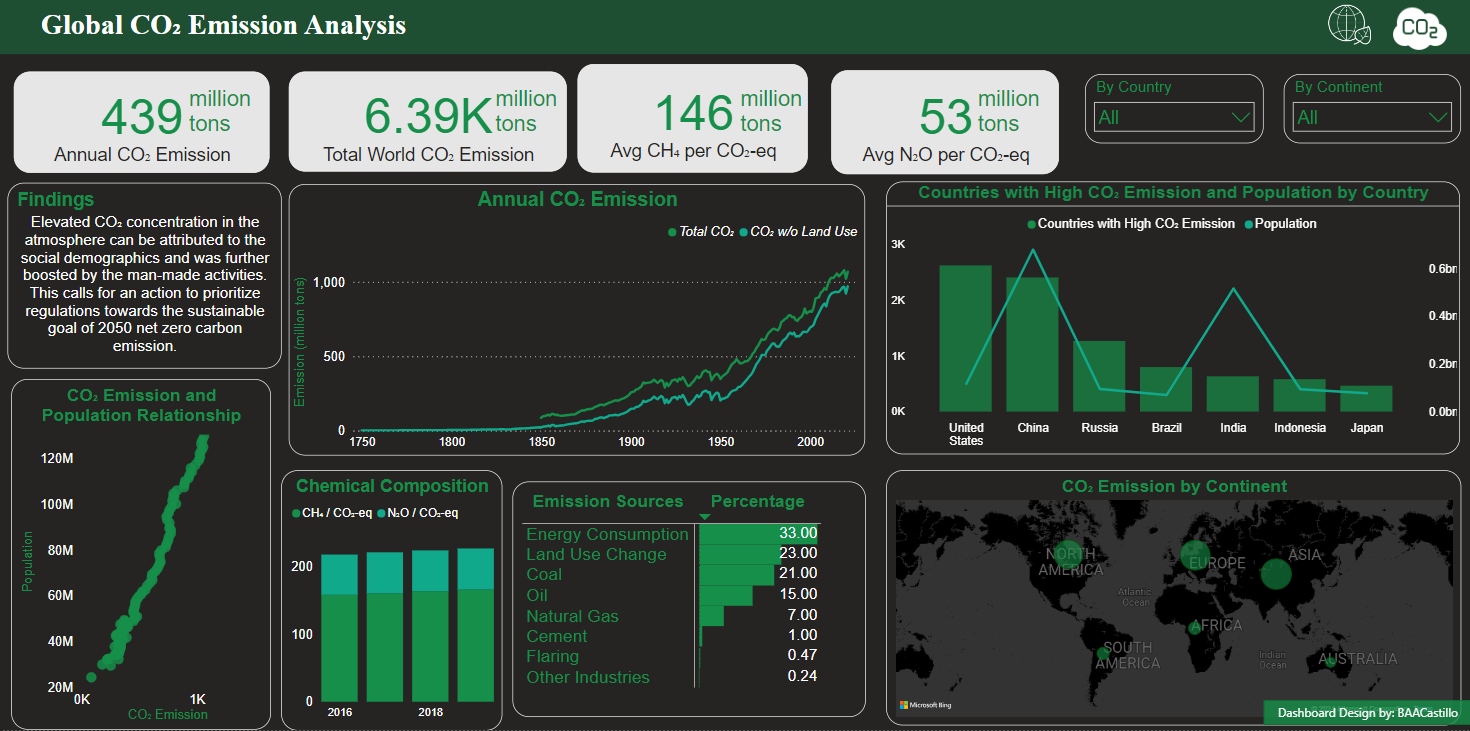

Layout of this report page (visuals, bound fields, positions):
{"tool":"powerbi","page":{"name":"Dashboard","canvas":[1500,900],"ordinal":0},"visuals":[{"type":"shape","box":[0,0,1500,75],"z":0},{"type":"lineChart","title":"Annual CO₂ Emission ","fields":{"Category":["f-demo_year.year"],"Y":["Sum(f-demo_year.co2)","Sum(f-demo_year.co2 without land_use)"]},"box":[0,228.8,618.8,362.5],"z":1000},{"type":"pivotTable","fields":{"Rows":["d-emission_sources.emission_sources"],"Values":["Sum(d-emission_sources.percentage)"]},"box":[450,615,407.5,250],"z":2000},{"type":"map","title":"CO₂ Emission by Continent","fields":{"Category":["f-demo_continent.continent"],"Size":["Sum(f-demo_continent.co2)"]},"box":[887.5,578.8,612.5,321.2],"z":3000},{"type":"card","fields":{"Values":["Avg(f-demo_year.co2)"]},"box":[20,102.5,260,110],"z":4000},{"type":"card","fields":{"Values":["Measure Table.Worldwide_CO2"]},"box":[300,102.5,260,110],"z":5000},{"type":"card","fields":{"Values":["Avg(d-chem_composition_yr.methane)"]},"box":[583.8,102.5,260,110],"z":6000},{"type":"scatterChart","title":"CO₂ Emission and Population Relationship","fields":{"X":["Sum(f-demo_year.co2)"],"Category":["f-demo_year.co2"],"Y":["Sum(f-demo_year.population)"]},"box":[618.8,221.2,253.8,380],"z":7000},{"type":"hundredPercentStackedBarChart","title":"Chemical Composition","fields":{"Category":["d-chem_composition_yr.year.Variation.Date Hierarchy.Year"],"Y":["Sum(d-chem_composition_yr.methane)","Sum(d-chem_composition_yr.nitrous_oxide)"]},"box":[0,591.2,450,305],"z":8000},{"type":"lineClusteredColumnComboChart","title":"CO₂ Emission by Country and Population","fields":{"Category":["f-demo_country.country"],"Y":["Sum(f-demo_country.co2)"],"Y2":["Sum(f-demo_country.population)"]},"box":[872.5,102.5,612.5,385],"z":10000},{"type":"slicer","title":"CO₂ Emission by Continent","fields":{"Values":["f-demo_continent.continent","f-demo_continent.co2"]},"box":[1282.5,505,200,70],"z":11000},{"type":"slicer","fields":{"Values":["f-demo_country.country","f-demo_country.co2"]},"box":[956.2,505,200,70],"z":12000},{"type":"image","box":[1399.6,0,100,85],"z":14000},{"type":"image","box":[1292.9,0,90,73.3],"z":15000},{"type":"shape","box":[1245,870,255,30],"z":16000},{"type":"shape","box":[50,73.8,400,21.2],"z":17000},{"type":"image","box":[891.2,508.8,65,70],"z":17001},{"type":"image","box":[1208.8,505,65,70],"z":17002}]}

Visuals, with their boxes on the page's 1500x900 design canvas (x1, y1, x2, y2). These are canvas units, not pixel positions in the 1470x731 screenshot, which may show the page scaled, cropped or inside an application window:
shape: <region>0, 0, 1500, 75</region>
"Annual CO₂ Emission " lineChart: <region>0, 229, 619, 591</region>
pivotTable - d-emission_sources.emission_sources x Sum(d-emission_sources.percentage): <region>450, 615, 858, 865</region>
"CO₂ Emission by Continent" map: <region>888, 579, 1500, 900</region>
card - Avg(f-demo_year.co2): <region>20, 102, 280, 212</region>
card - Measure Table.Worldwide_CO2: <region>300, 102, 560, 212</region>
card - Avg(d-chem_composition_yr.methane): <region>584, 102, 844, 212</region>
"CO₂ Emission and Population Relationship" scatterChart: <region>619, 221, 873, 601</region>
"Chemical Composition" hundredPercentStackedBarChart: <region>0, 591, 450, 896</region>
"CO₂ Emission by Country and Population" lineClusteredColumnComboChart: <region>872, 102, 1485, 488</region>
"CO₂ Emission by Continent" slicer: <region>1282, 505, 1482, 575</region>
slicer - f-demo_country.country x f-demo_country.co2: <region>956, 505, 1156, 575</region>
image: <region>1400, 0, 1500, 85</region>
image: <region>1293, 0, 1383, 73</region>
shape: <region>1245, 870, 1500, 900</region>
shape: <region>50, 74, 450, 95</region>
image: <region>891, 509, 956, 579</region>
image: <region>1209, 505, 1274, 575</region>
